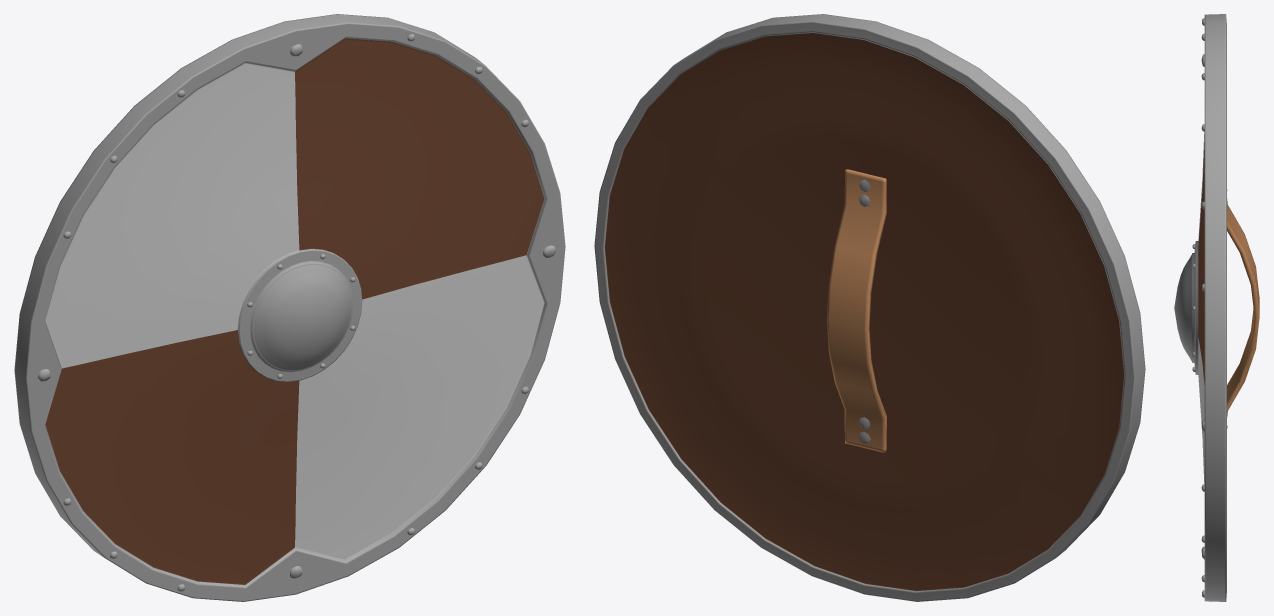
Rendered from FlatRoundShield.fbx.
3 renders of one model, left to right at view 1: azimuth 30°, elevation 25°; view 2: azimuth 150°, elevation 25°; view 3: azimuth 270°, elevation 25°, orthographic. The views are drawn at different scales.
Visible parts, largest first — view 1: RoundShield_LOD0; view 2: RoundShield_LOD0; view 3: RoundShield_LOD0.
Boxes of the visible parts, <box> form: RoundShield_LOD0: <box>14,14,565,601</box>; RoundShield_LOD0: <box>594,14,1145,601</box>; RoundShield_LOD0: <box>1174,14,1259,601</box>.
Size of what is drawn, in the model's own units: 72.61 by 72.61 by 10.55.
